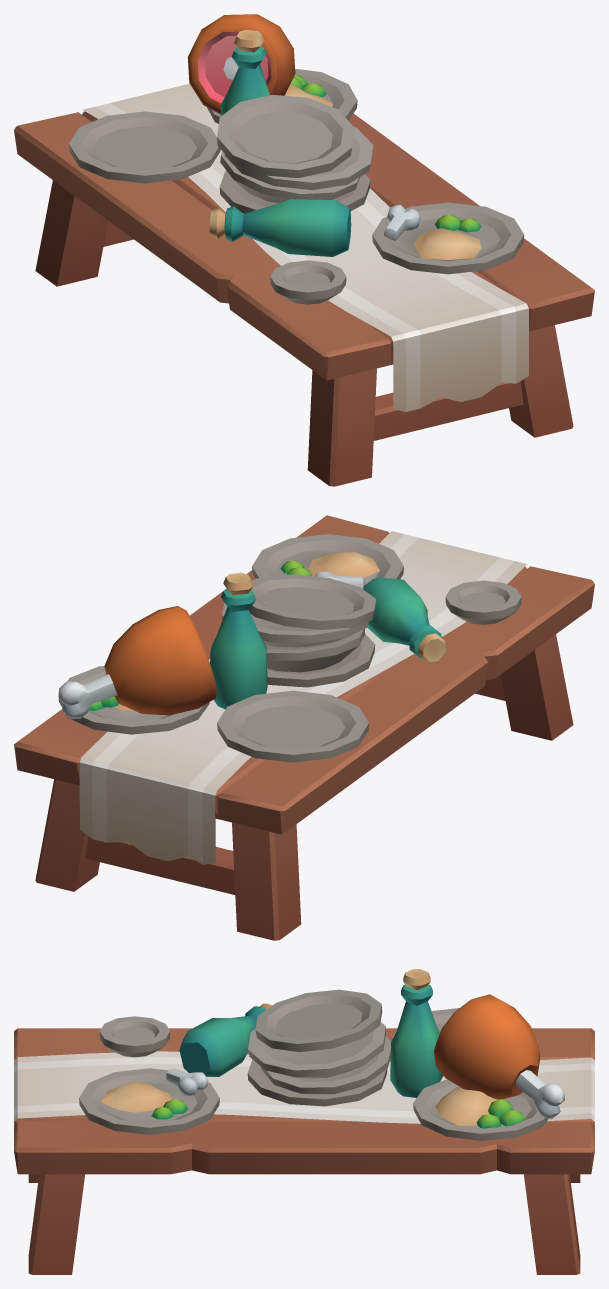
Rendered from table_long_tablecloth_decorated_A.glb.
3 views of the same model, one above another, from view 1: azimuth 30°, elevation 25°; view 2: azimuth 150°, elevation 25°; view 3: azimuth 270°, elevation 25° (orthographic). The views are drawn at different scales.
Visible parts, largest first — view 1: table_long_tablecloth_decorated_A; view 2: table_long_tablecloth_decorated_A; view 3: table_long_tablecloth_decorated_A.
Boxes of the visible parts, box(x1,y1,x2,y2) form: table_long_tablecloth_decorated_A: box(14, 14, 594, 486); table_long_tablecloth_decorated_A: box(14, 515, 594, 940); table_long_tablecloth_decorated_A: box(14, 969, 594, 1274).
Size of the model in its own units: 2.06 by 1.89 by 4.
1 material, 1 textured.
